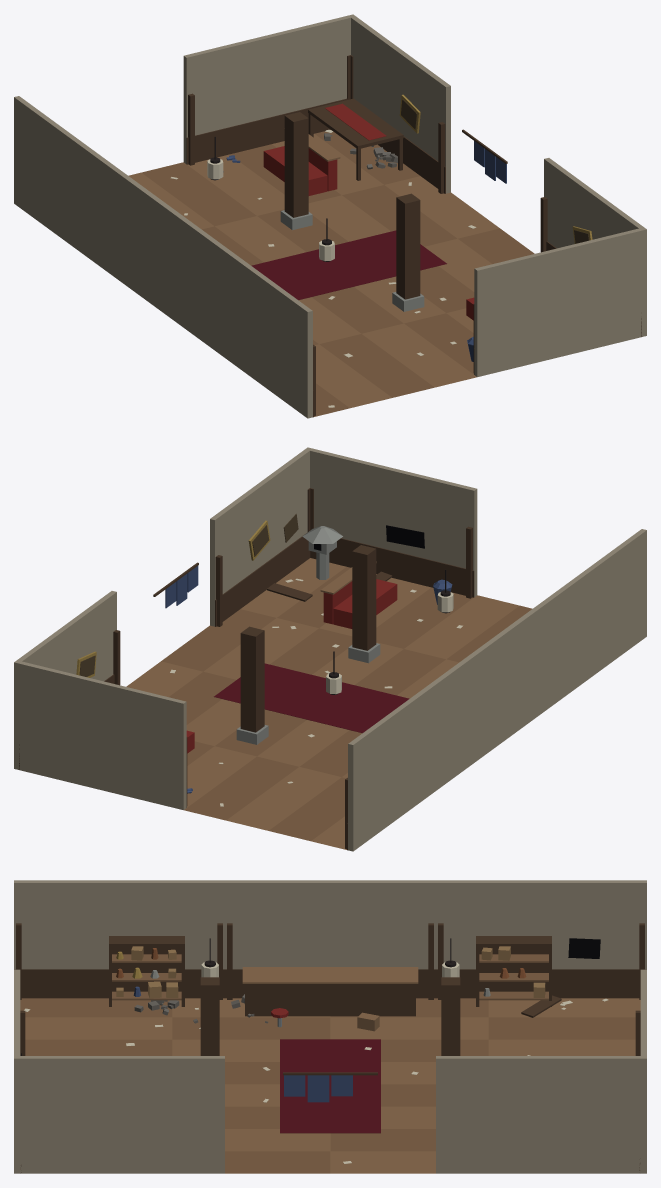
3 views of the same model, one above another, from view 1: azimuth 30°, elevation 25°; view 2: azimuth 150°, elevation 25°; view 3: azimuth 270°, elevation 25° (orthographic). The views are drawn at different scales.
Visible parts, largest first — view 1: =_A, =_A_Deco; view 2: =_A, =_A_Deco; view 3: =_A, =_A_Deco.
Part boxes in pixels (x1,y1,x2,y2): =_A: (14, 14, 646, 418); =_A_Deco: (170, 55, 641, 417); =_A: (14, 447, 646, 851); =_A_Deco: (19, 488, 474, 850); =_A: (14, 880, 646, 1173); =_A_Deco: (14, 923, 646, 1173).
Bounding box in the file's own units: 2 × 1.33 × 0.4037.
